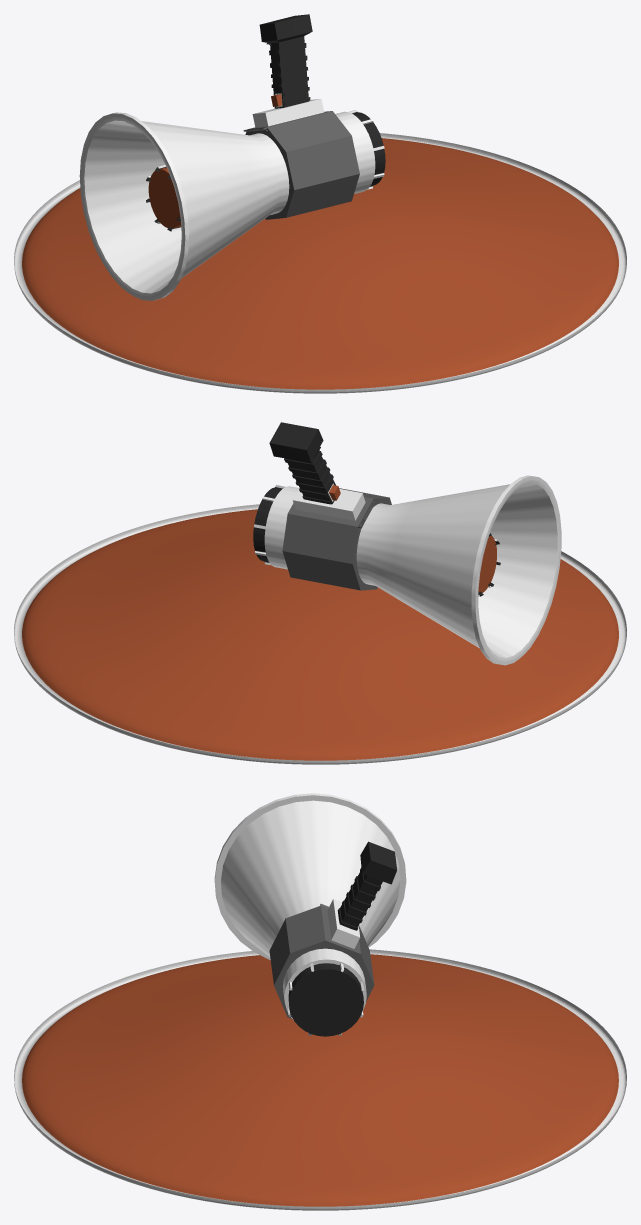
File: dem_say.glb
3 renders of one model, top to bottom at view 1: azimuth 30°, elevation 25°; view 2: azimuth 150°, elevation 25°; view 3: azimuth 270°, elevation 25°, orthographic.
Parts seen in each view (by area): view 1: Circle, Cylinder; view 2: Circle, Cylinder; view 3: Circle, Cylinder.
Part boxes in pixels (x1,y1,x2,y2): Circle: (14,133,626,393); Cylinder: (79,14,385,300); Circle: (14,504,626,764); Cylinder: (253,422,561,665); Circle: (14,949,626,1210); Cylinder: (214,793,406,1036).
Size of the model in its own units: 21.19 by 8.77 by 21.19.
